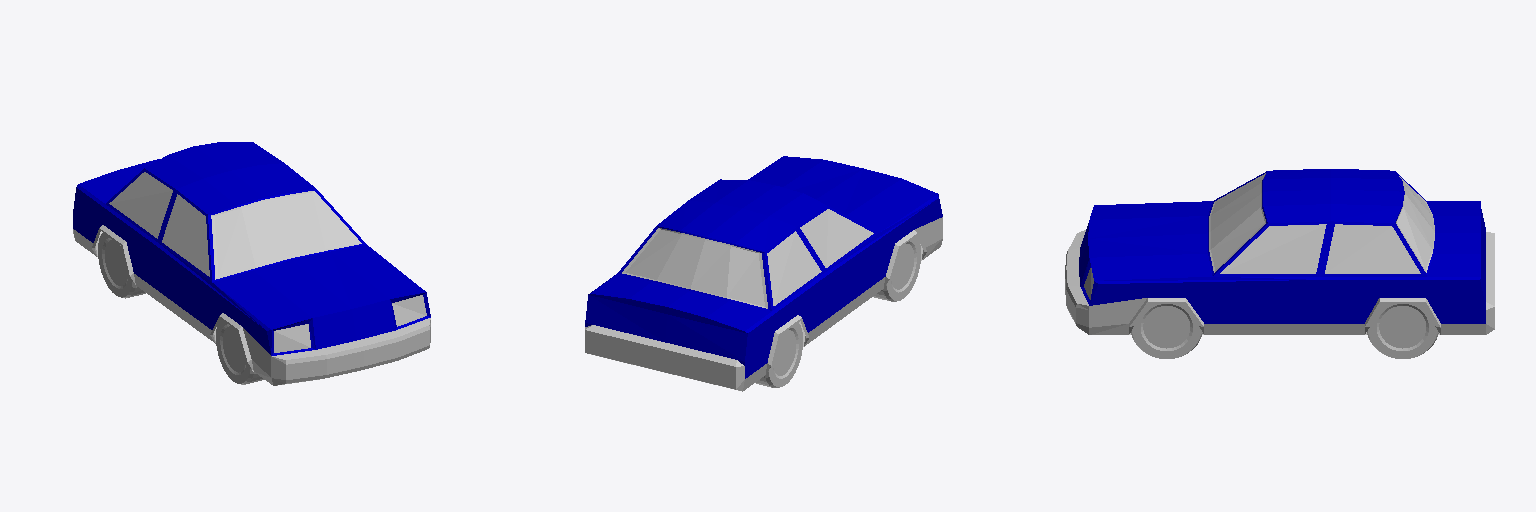
File: enemyCar.obj
3 renders of one model, left to right at view 1: azimuth 30°, elevation 25°; view 2: azimuth 150°, elevation 25°; view 3: azimuth 270°, elevation 25°, orthographic.
Visible parts, largest first — view 1: Car_Cube; view 2: Car_Cube; view 3: Car_Cube.
Part boxes in pixels (bbox=[...]): Car_Cube: bbox=[73, 142, 430, 385]; Car_Cube: bbox=[585, 156, 942, 391]; Car_Cube: bbox=[1065, 169, 1494, 358].
Size of the model in its own units: 2.1 by 1.59 by 4.67.